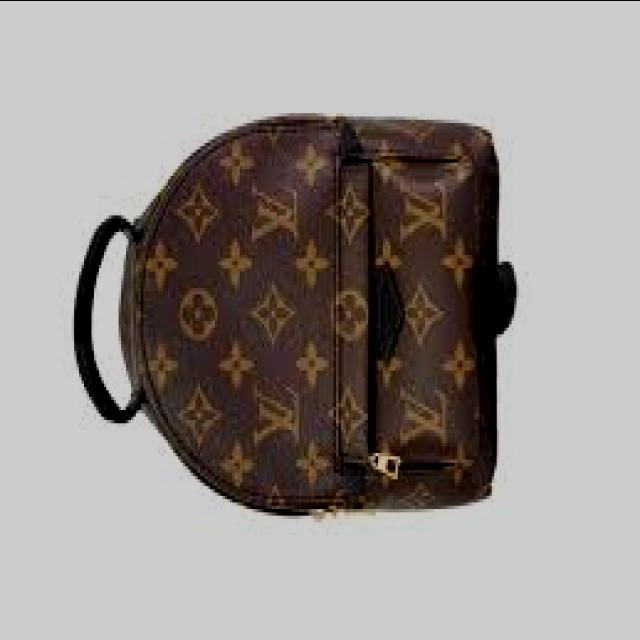backpack: (73, 113, 515, 522)
